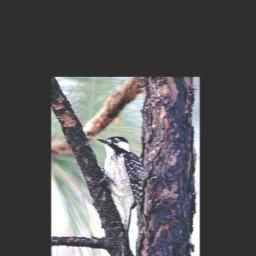Woodpecker: (96, 136, 146, 234)
